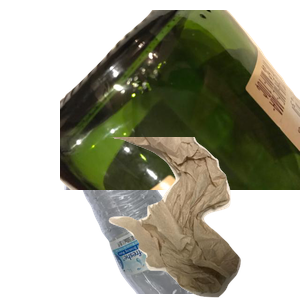glass: (60, 10, 300, 190)
metal: (62, 47, 300, 227)
plastic: (63, 120, 263, 300)
trash: (103, 137, 300, 300)
